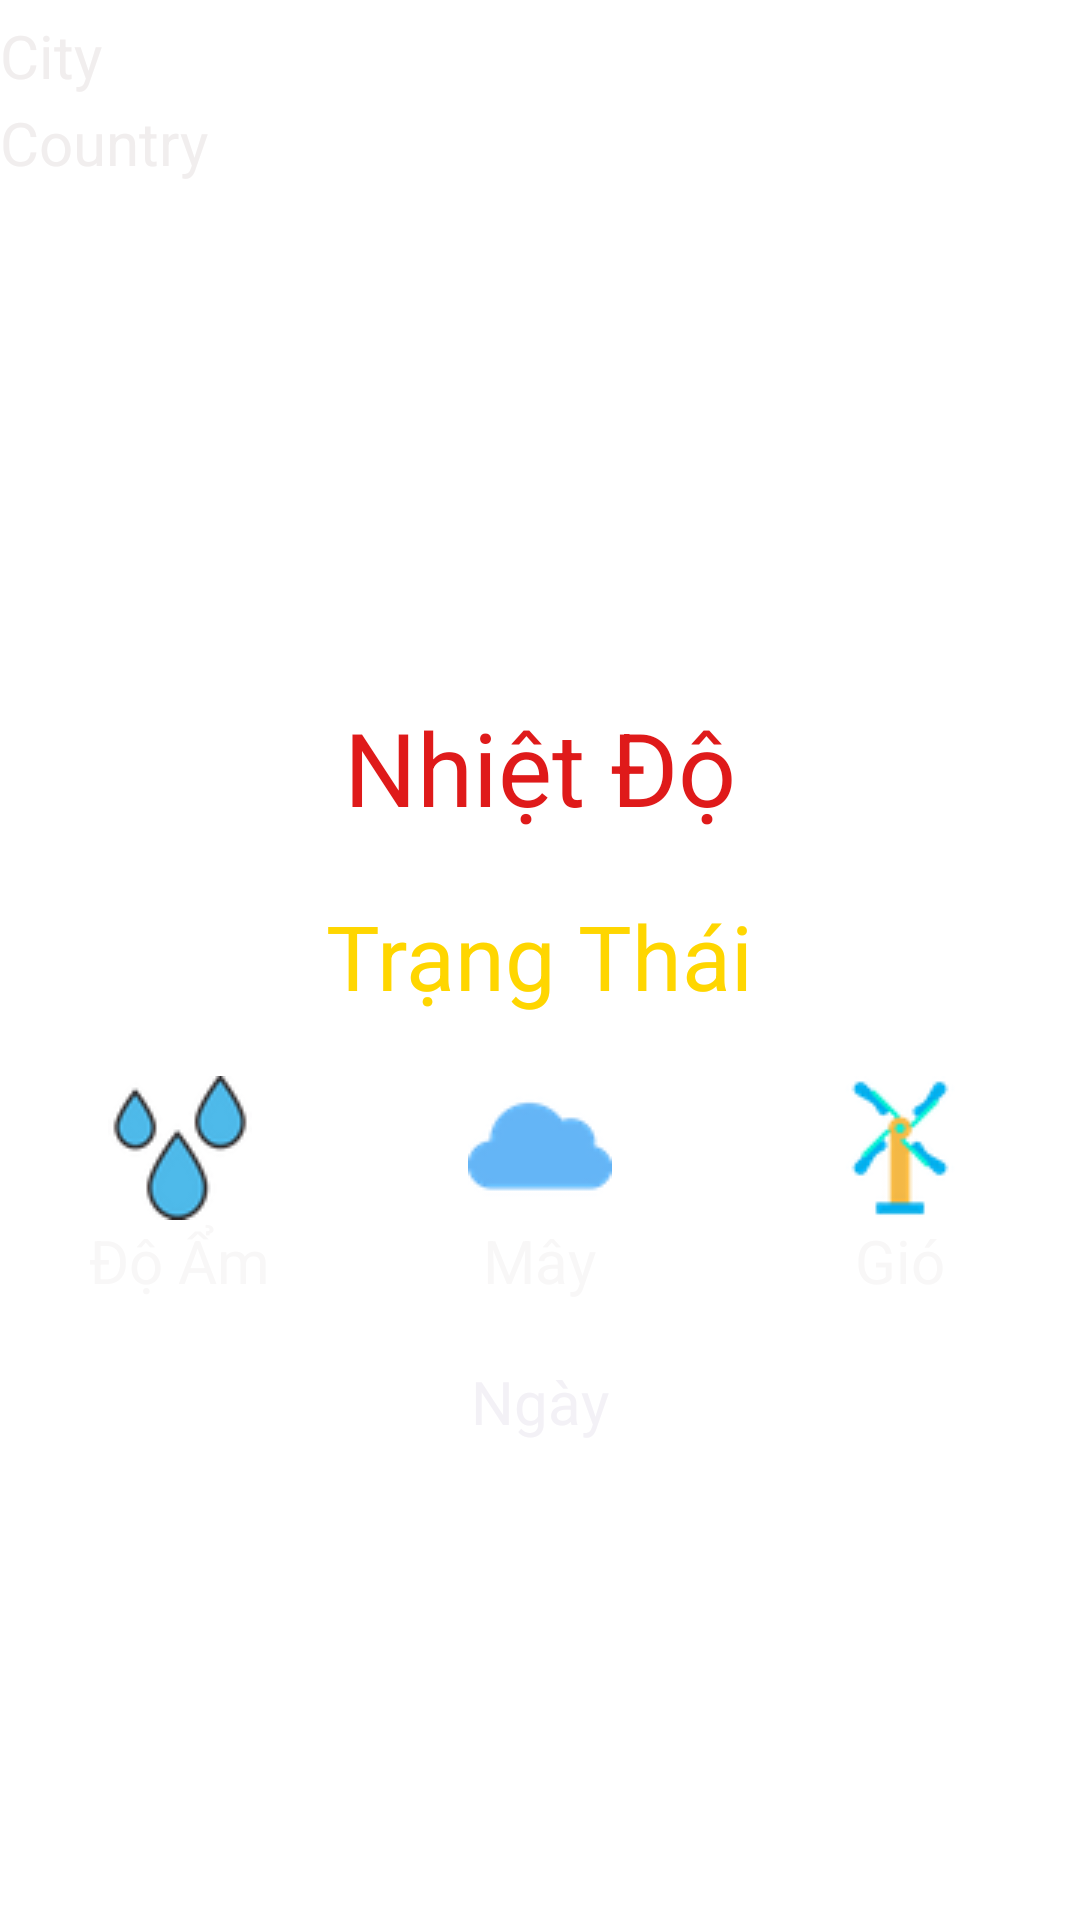

Icons on this 1080×1920 Android screen, each with the point to tap as [x,y]:
rain drops: [180,1148]
windmill: [900,1148]
